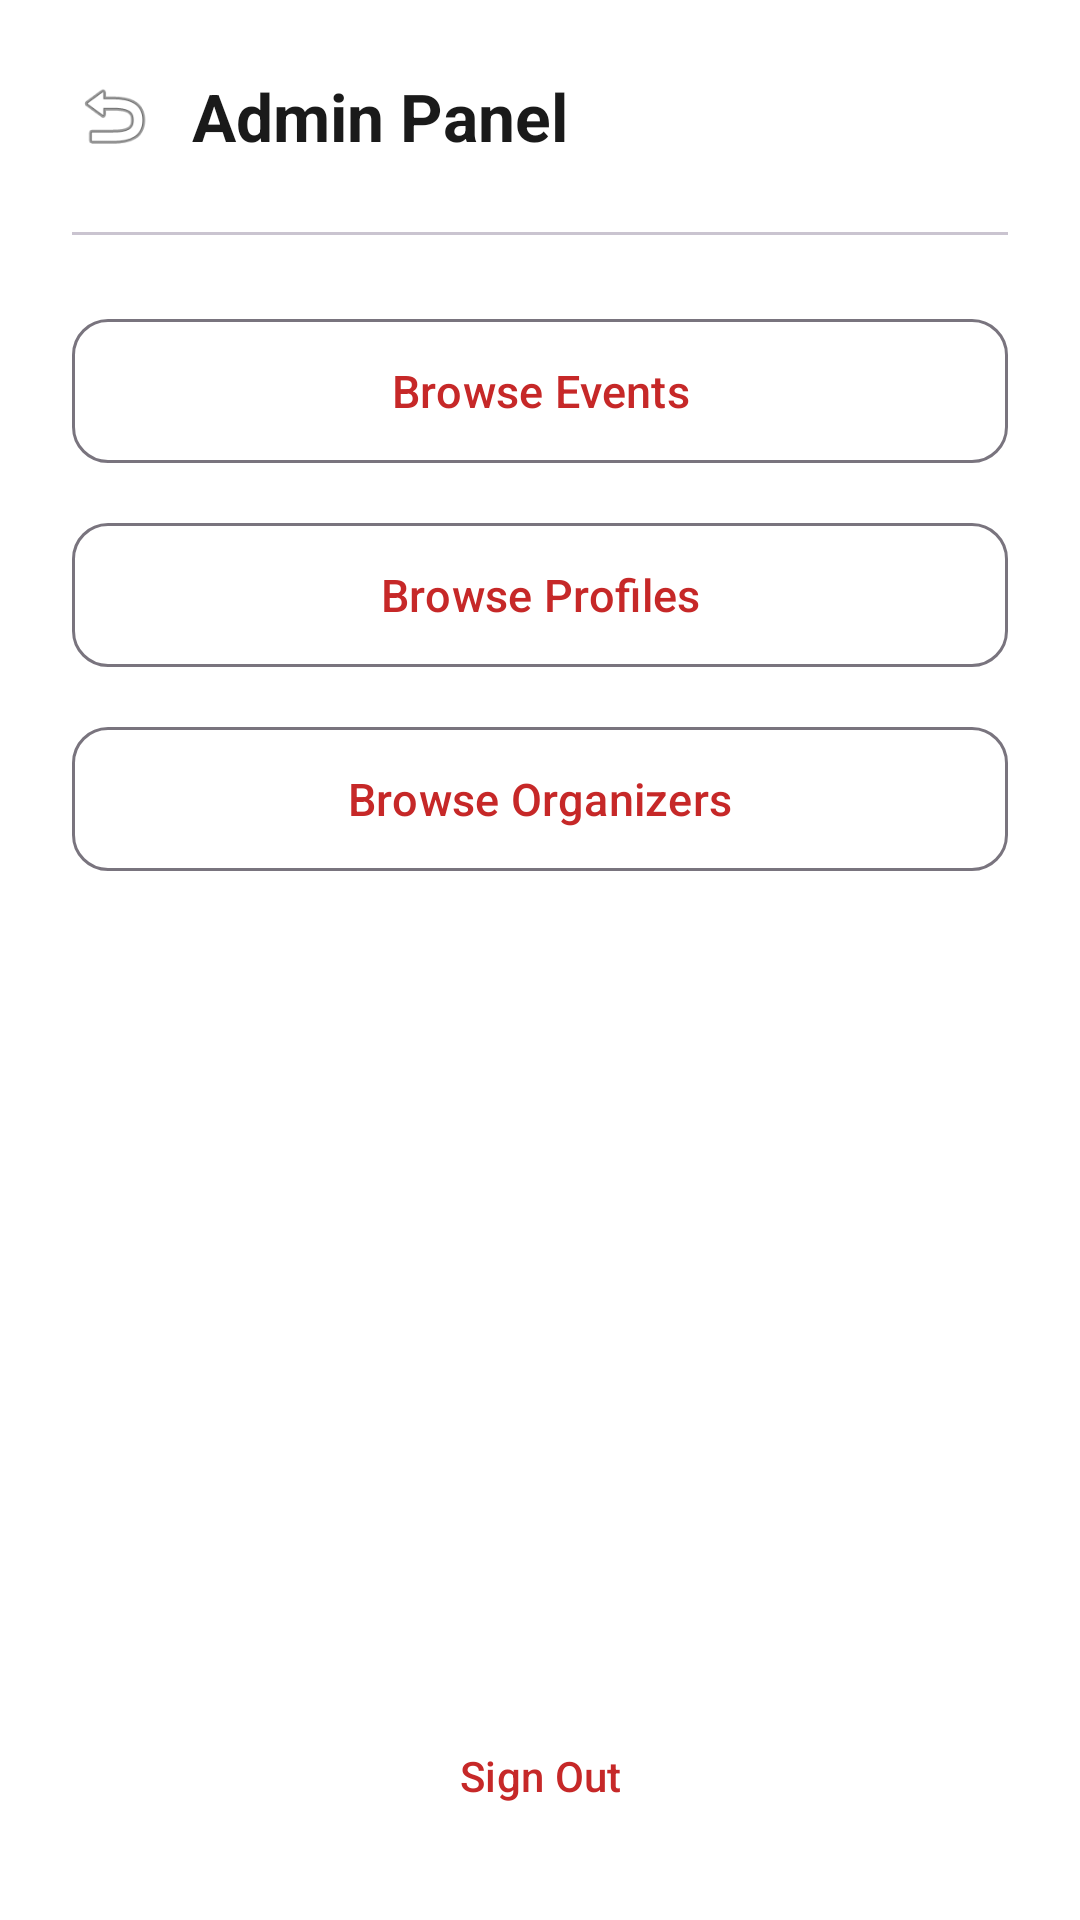

Named icons in this screenshot (1080x1920) and their centers, point (x, y):
Back: point (115, 116)
